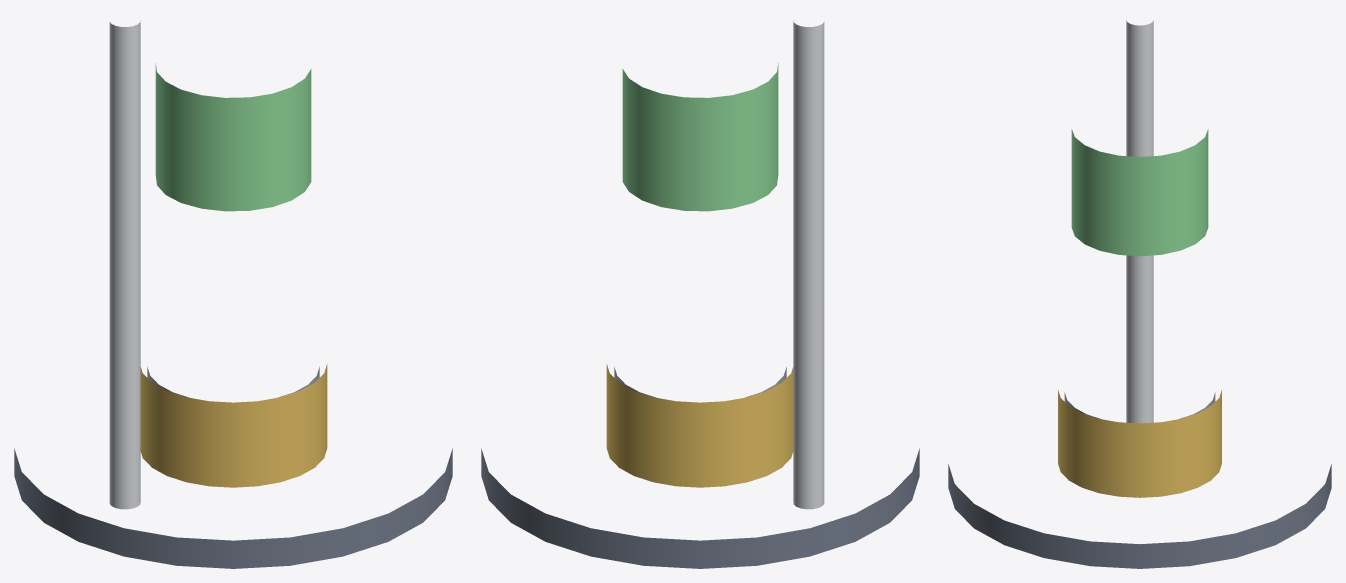
The model's file is aggregate_testing.glb.
3 renders of one model, left to right at view 1: azimuth 30°, elevation 25°; view 2: azimuth 150°, elevation 25°; view 3: azimuth 270°, elevation 25°, orthographic. The views are drawn at different scales.
Parts seen in each view (by area): view 1: ImpactHammer, ImpactCylinder, GuidePillars, ImpactBase; view 2: ImpactHammer, ImpactCylinder, GuidePillars, ImpactBase; view 3: ImpactHammer, ImpactCylinder, ImpactBase, GuidePillars.
Boxes of the visible parts, left/top/right/bottom form: ImpactHammer: left=155, top=63, right=311, bottom=211; ImpactCylinder: left=140, top=364, right=327, bottom=487; GuidePillars: left=109, top=20, right=140, bottom=509; ImpactBase: left=14, top=448, right=452, bottom=568; ImpactHammer: left=622, top=63, right=778, bottom=211; ImpactCylinder: left=606, top=364, right=793, bottom=487; GuidePillars: left=793, top=20, right=824, bottom=509; ImpactBase: left=481, top=448, right=919, bottom=568; ImpactHammer: left=1071, top=129, right=1208, bottom=256; ImpactCylinder: left=1058, top=390, right=1221, bottom=497; ImpactBase: left=948, top=464, right=1331, bottom=568; GuidePillars: left=1126, top=20, right=1153, bottom=423.
Bounding box in the file's own units: 2.8 × 3.4 × 2.8.
